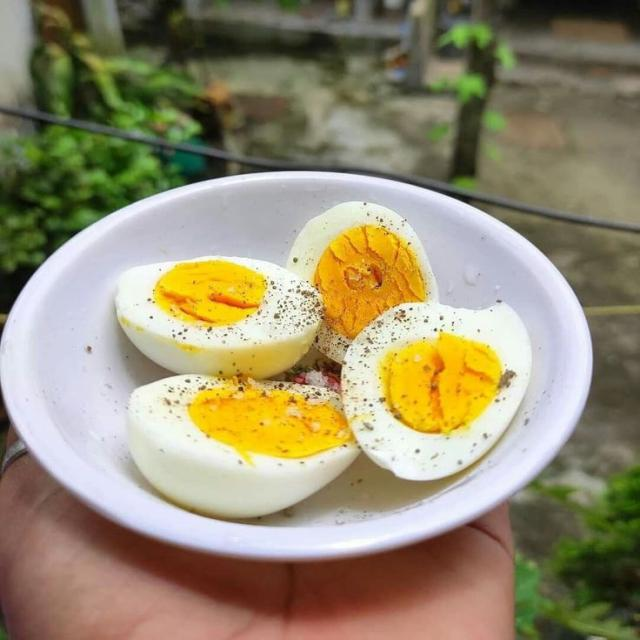egg boiled: (342, 304, 532, 479), (127, 375, 359, 518), (116, 256, 321, 378), (287, 202, 437, 362)
